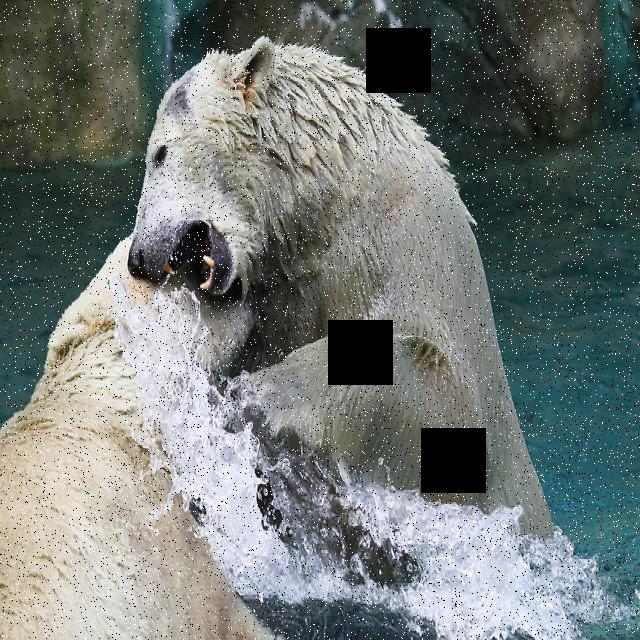Bear: (113, 28, 574, 562)
